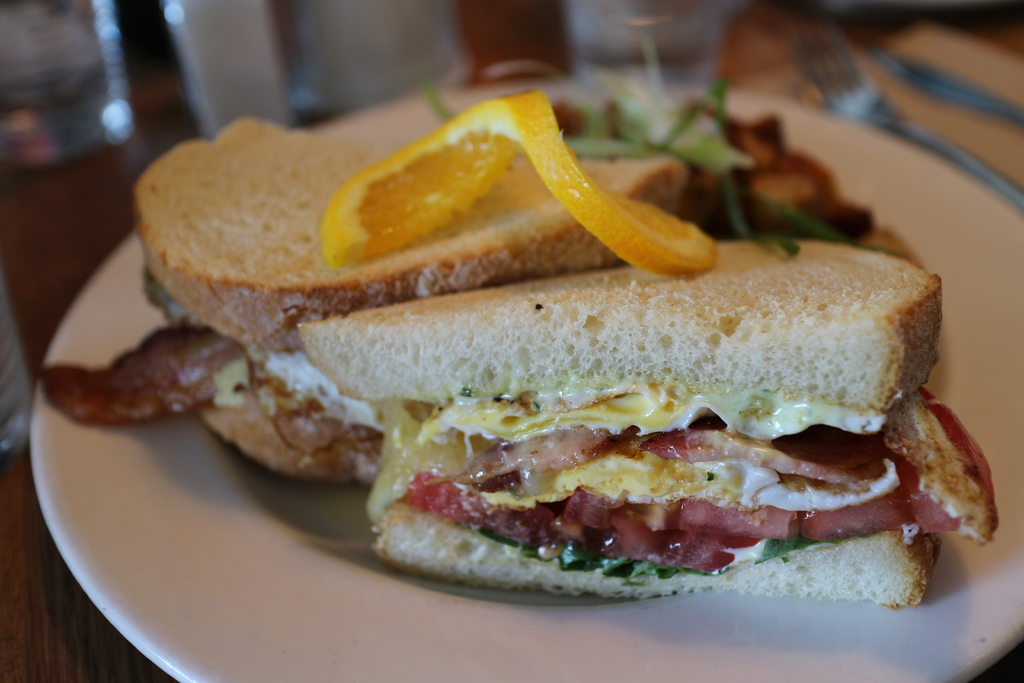sandwich: (287, 234, 995, 618), (40, 111, 684, 481)
